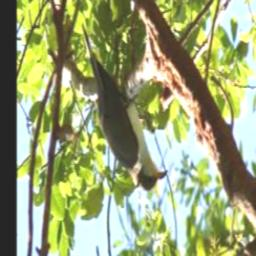Cuckoo: (83, 22, 170, 192)
